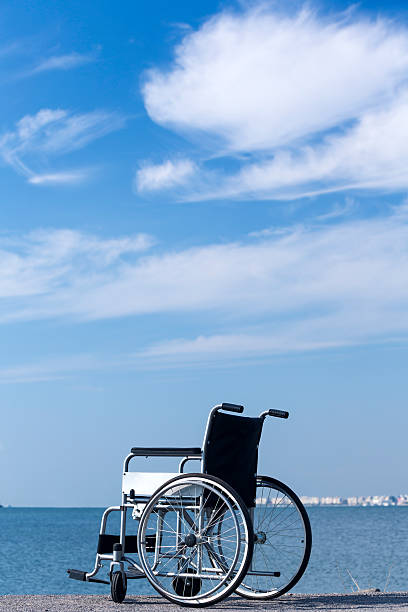wheel_chair: (63, 396, 316, 611)
